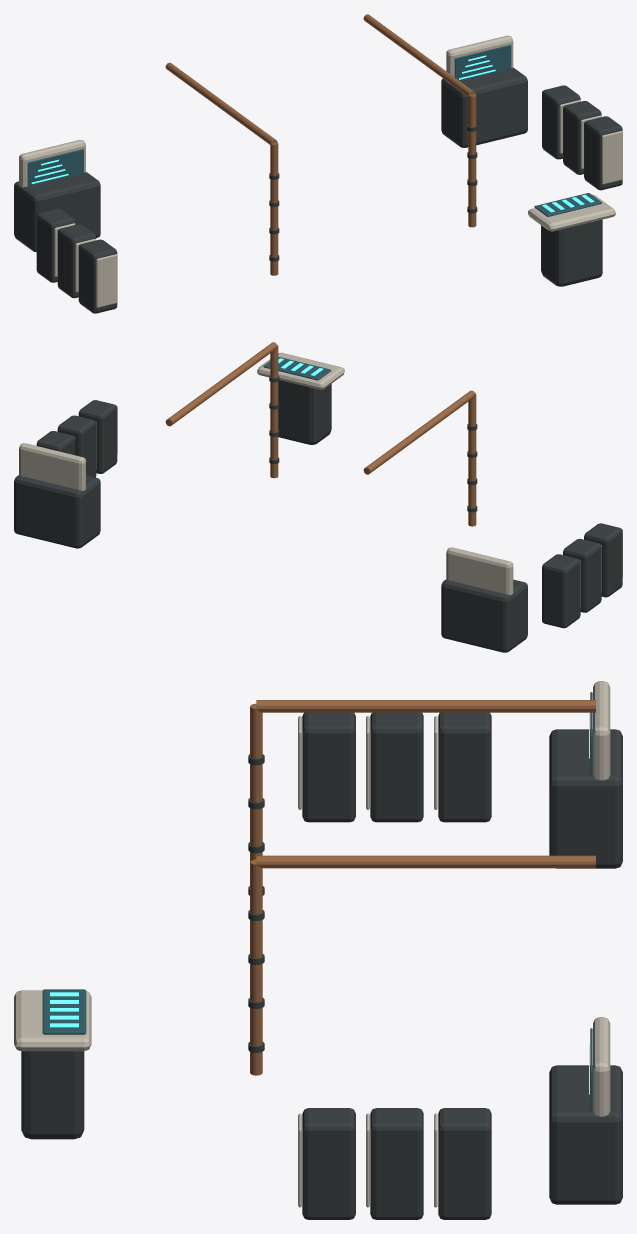
File: engineering-interior.glb
3 views of the same model, one above another, from view 1: azimuth 30°, elevation 25°; view 2: azimuth 150°, elevation 25°; view 3: azimuth 270°, elevation 25° (orthographic). The views are drawn at different scales.
Visible parts, largest first — view 1: Furniture_Graphite, Furniture_Ivory, Furniture_Copper, Furniture_Glass, Furniture_Cyan; view 2: Furniture_Graphite, Furniture_Ivory, Furniture_Copper, Furniture_Glass; view 3: Furniture_Graphite, Furniture_Copper, Furniture_Ivory, Furniture_Glass, Furniture_Cyan.
Part boxes in pixels (<box>): Furniture_Graphite: <box>14,67,622,313</box>; Furniture_Ivory: <box>19,35,622,307</box>; Furniture_Copper: <box>165,14,476,275</box>; Furniture_Glass: <box>27,44,601,216</box>; Furniture_Cyan: <box>31,55,594,212</box>; Furniture_Graphite: <box>14,375,622,652</box>; Furniture_Ivory: <box>19,352,622,607</box>; Furniture_Copper: <box>165,342,476,526</box>; Furniture_Glass: <box>263,357,331,380</box>; Furniture_Graphite: <box>21,712,622,1219</box>; Furniture_Copper: <box>250,700,595,1075</box>; Furniture_Ivory: <box>14,681,610,1207</box>; Furniture_Glass: <box>42,692,592,1110</box>; Furniture_Cyan: <box>50,712,589,1094</box>.
Size of the model in its own units: 10.18 by 2.73 by 6.28.
